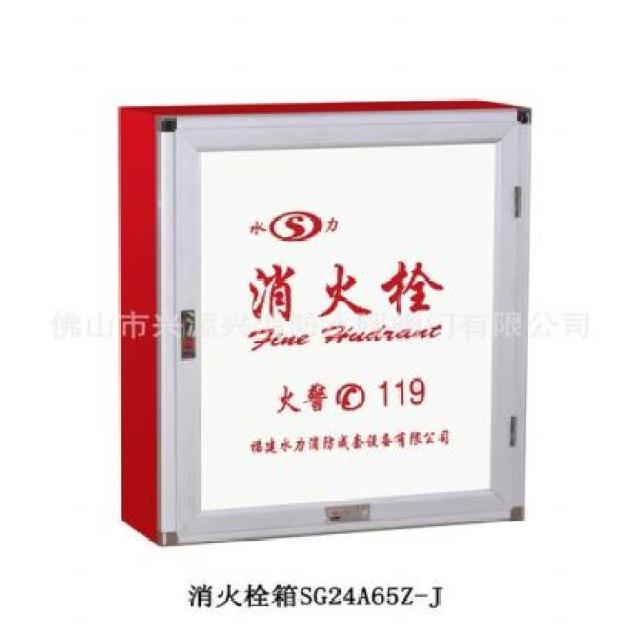firehydrant: (112, 92, 536, 552)
